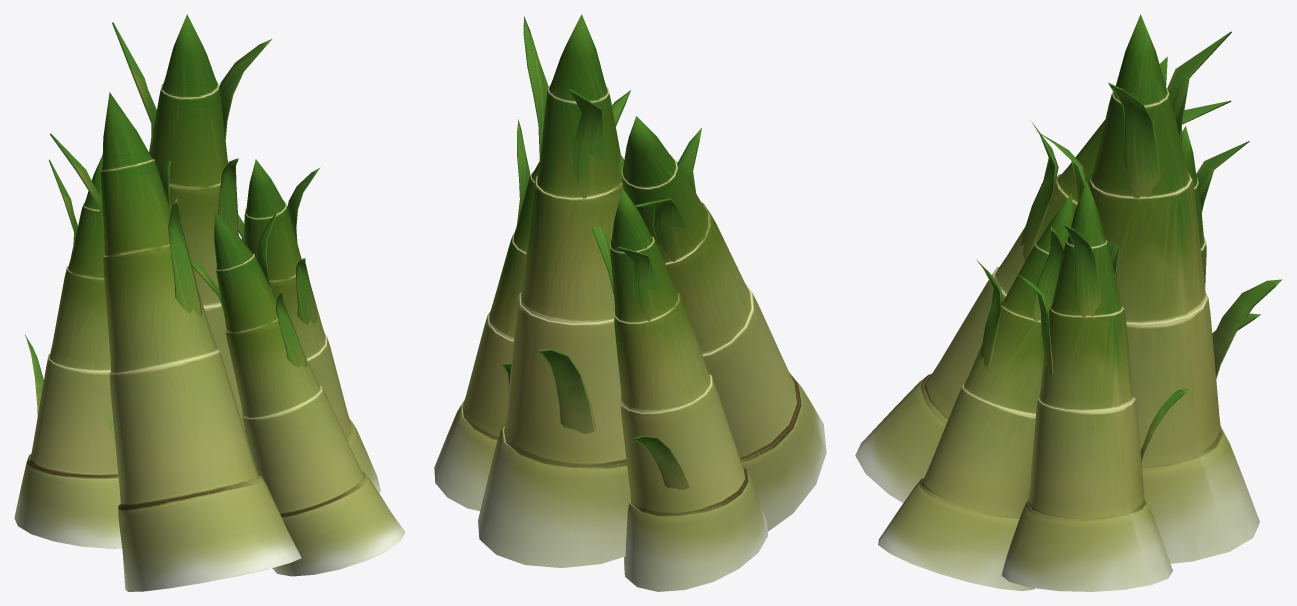
Rendered from bamboo_shoot_bundle.glb.
3 renders of one model, left to right at view 1: azimuth 30°, elevation 25°; view 2: azimuth 150°, elevation 25°; view 3: azimuth 270°, elevation 25°, orthographic. The views are drawn at different scales.
Visible parts, largest first — view 1: bamboo_shot:pCone2, pCone2, pCone4, pCone3, pCone5; view 2: pCone3, pCone4, bamboo_shot:pCone2, pCone5; view 3: pCone3, pCone5, pCone2, bamboo_shot:pCone2, pCone4.
Boxes of the visible parts, box(x1,y1,x2,y2) form: bamboo_shot:pCone2: box(50, 92, 301, 591); pCone2: box(191, 210, 405, 576); pCone4: box(14, 155, 121, 548); pCone3: box(112, 14, 271, 433); pCone5: box(238, 159, 380, 493); pCone3: box(478, 14, 630, 567); pCone4: box(592, 188, 767, 591); bamboo_shot:pCone2: box(619, 116, 826, 531); pCone5: box(434, 119, 539, 511); pCone3: box(1038, 14, 1282, 563); pCone5: box(1001, 181, 1188, 591); pCone2: box(878, 193, 1073, 591); bamboo_shot:pCone2: box(855, 56, 1231, 502); pCone4: box(1181, 126, 1260, 336).
Size of the model in its own units: 0.0167 by 0.0264 by 0.0185.
1 material, 1 textured.
